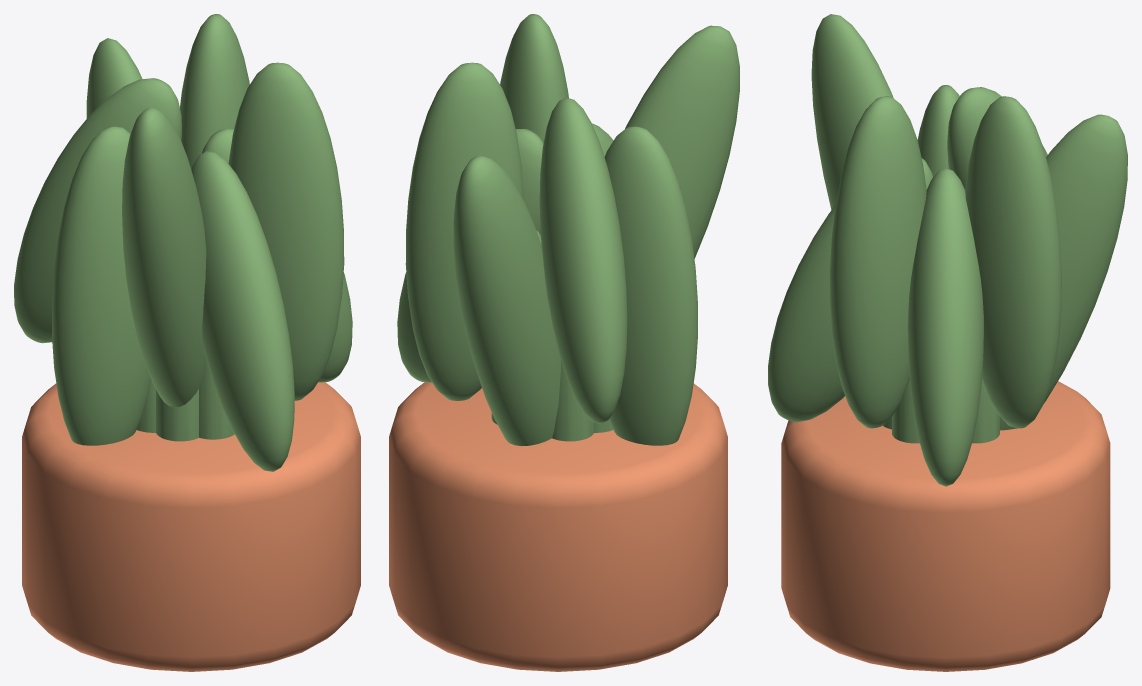
Rendered from plant-desk.glb.
3 views of the same model, side by side, from view 1: azimuth 30°, elevation 25°; view 2: azimuth 150°, elevation 25°; view 3: azimuth 270°, elevation 25° (orthographic). The views are drawn at different scales.
Parts seen in each view (by area): view 1: pot.001, leaf-7.001, leaf-4.002, leaf-6.001, leaf-5.001, leaf-3.002, leaf-1.002, leaf-2.002, leaf-0.002, stem-5.001, stem-6.001, stem-4.001; view 2: pot.001, leaf-2.002, leaf-4.002, leaf-3.002, leaf-1.002, leaf-5.001, leaf-7.001, leaf-0.002, stem-3.001; view 3: pot.001, leaf-1.002, leaf-7.001, leaf-0.002, leaf-2.002, leaf-6.001, leaf-5.001, leaf-3.002, leaf-4.002, stem-1.001, stem-7.001.
Boxes of the visible parts, x1,y1,x2,y2 form: pot.001: (22, 382, 360, 671); leaf-7.001: (228, 62, 344, 400); leaf-4.002: (52, 126, 151, 445); leaf-6.001: (191, 151, 294, 471); leaf-5.001: (122, 107, 206, 407); leaf-3.002: (14, 78, 181, 343); leaf-1.002: (180, 14, 249, 169); leaf-2.002: (86, 38, 142, 118); leaf-0.002: (202, 129, 352, 382); stem-5.001: (156, 389, 198, 441); stem-6.001: (199, 359, 234, 439); stem-4.001: (136, 380, 155, 432); pot.001: (389, 382, 727, 671); leaf-2.002: (453, 156, 560, 445); leaf-4.002: (604, 126, 697, 445); leaf-3.002: (539, 97, 627, 423); leaf-1.002: (405, 62, 523, 400); leaf-5.001: (625, 25, 739, 258); leaf-7.001: (500, 14, 568, 143); leaf-0.002: (397, 129, 543, 382); stem-3.001: (552, 359, 594, 441); pot.001: (781, 381, 1110, 671); leaf-1.002: (965, 96, 1061, 428); leaf-7.001: (830, 96, 926, 428); leaf-0.002: (907, 168, 983, 486); leaf-2.002: (1000, 114, 1127, 430); leaf-6.001: (768, 158, 932, 422); leaf-5.001: (811, 14, 893, 209); leaf-3.002: (947, 87, 1047, 189); leaf-4.002: (917, 85, 959, 177); stem-1.001: (972, 379, 999, 443); stem-7.001: (892, 379, 919, 443).
Bounding box in the file's own units: 0.1631 × 0.2883 × 0.1715.
